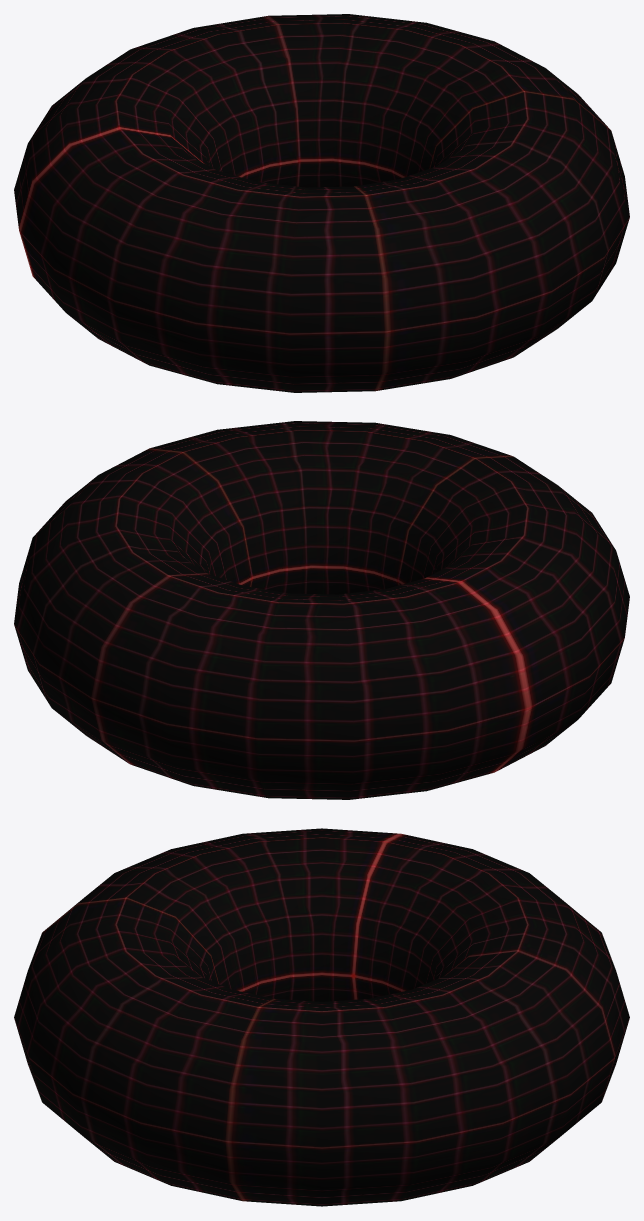
3 views of the same model, one above another, from view 1: azimuth 30°, elevation 25°; view 2: azimuth 150°, elevation 25°; view 3: azimuth 270°, elevation 25° (orthographic).
Visible parts, largest first — view 1: SM_Placeholder_Sphere_LOD0; view 2: SM_Placeholder_Sphere_LOD0; view 3: SM_Placeholder_Sphere_LOD0.
Part boxes in pixels (x1,y1,x2,y2): SM_Placeholder_Sphere_LOD0: (14, 14, 629, 392); SM_Placeholder_Sphere_LOD0: (14, 421, 629, 799); SM_Placeholder_Sphere_LOD0: (14, 828, 629, 1206).
Bounding box in the file's own units: 1.5 × 0.5 × 1.5.
